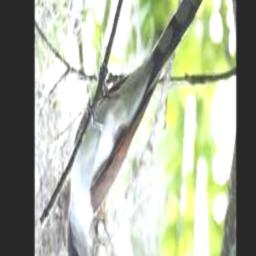Cuckoo: (68, 0, 205, 256)
